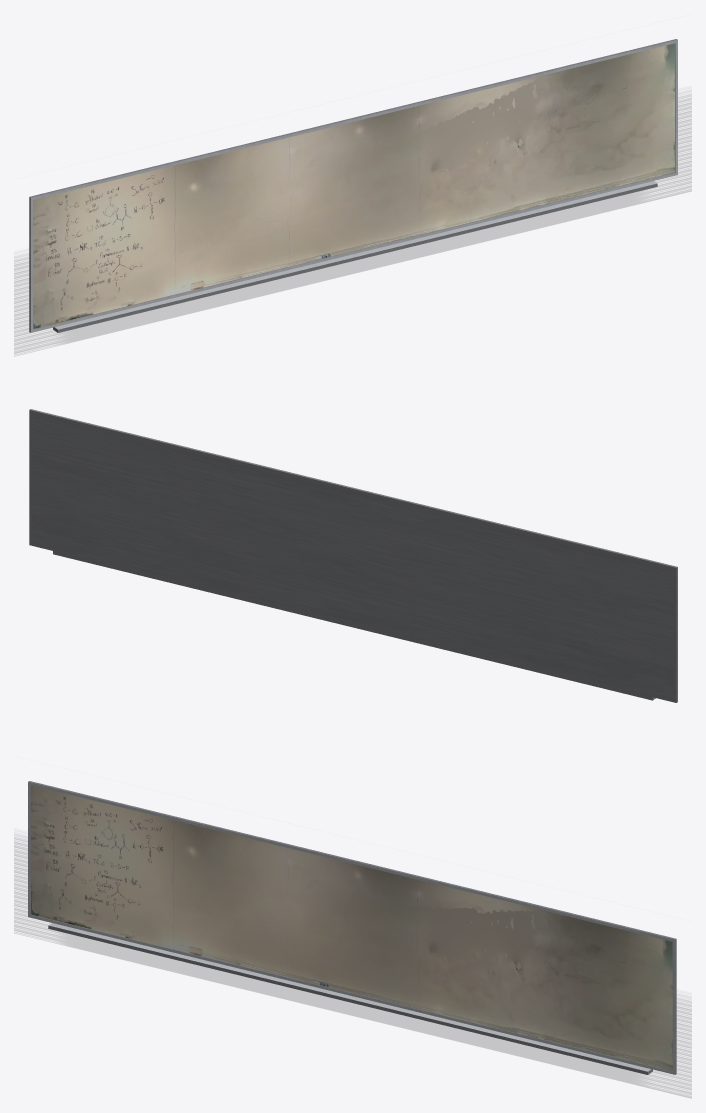
The model's file is whiteboard.glb.
The picture shows the model from 3 angles, top to bottom: view 1: azimuth 30°, elevation 25°; view 2: azimuth 150°, elevation 25°; view 3: azimuth 330°, elevation 25°; orthographic projection.
Parts seen in each view (by area): view 1: board, frame, shadow; view 2: board, frame; view 3: board, frame, shadow.
Part boxes in pixels (bbox=[...]): board: bbox=[33, 43, 674, 328]; frame: bbox=[29, 39, 677, 332]; shadow: bbox=[14, 99, 691, 353]; board: bbox=[32, 413, 673, 699]; frame: bbox=[29, 409, 677, 702]; board: bbox=[31, 785, 672, 1070]; frame: bbox=[28, 781, 676, 1074]; shadow: bbox=[14, 838, 691, 1097].
Bounding box in the file's own units: 6.4 × 1.6 × 0.08.
Materials: 5 (5 with a texture image).
